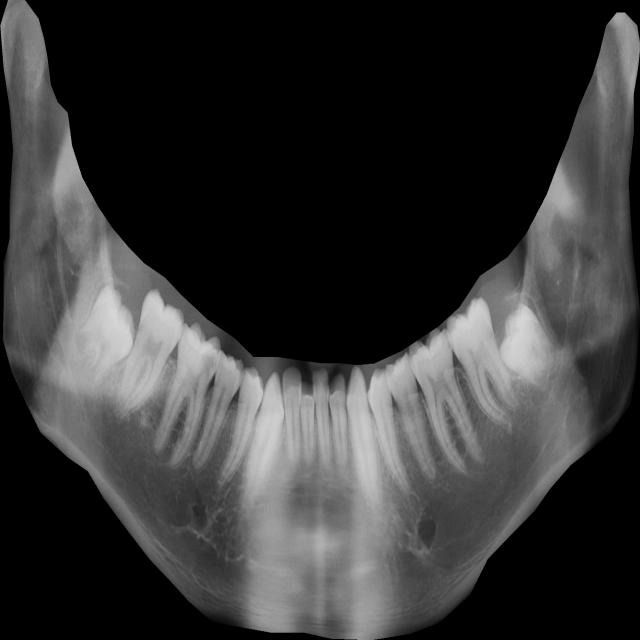mandibula: (0, 0, 640, 640)
